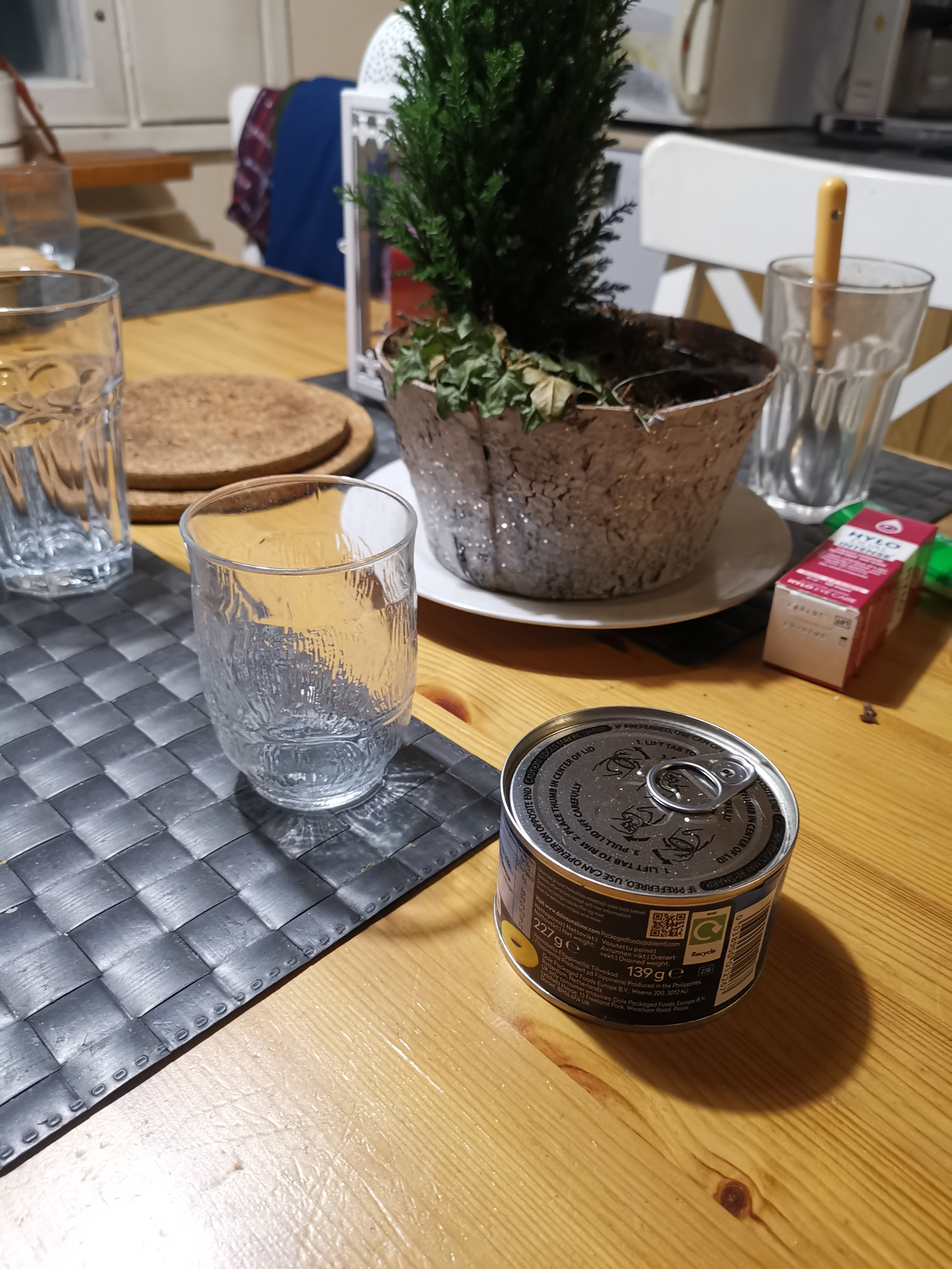Konservburk: (488, 703, 803, 1038)
